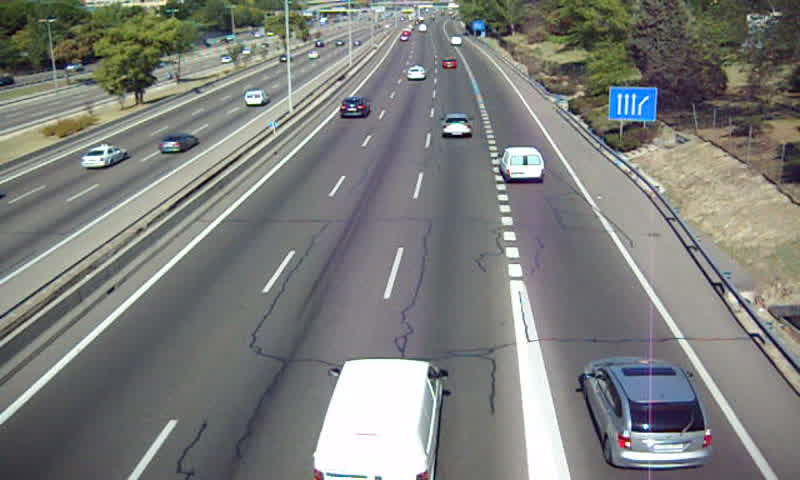car: (584, 358, 711, 467), (442, 113, 472, 139), (339, 96, 370, 118), (406, 64, 426, 81), (442, 58, 458, 70)
van: (312, 359, 443, 480), (500, 147, 544, 184)
